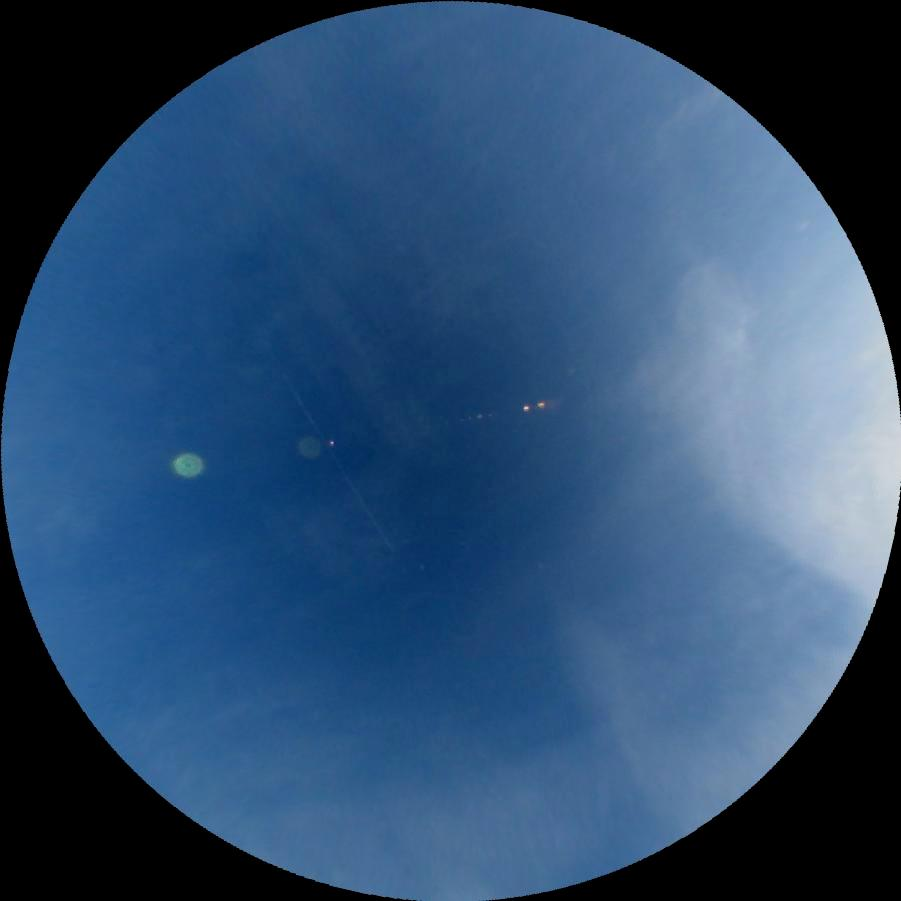contrail young: (259, 339, 396, 553)
